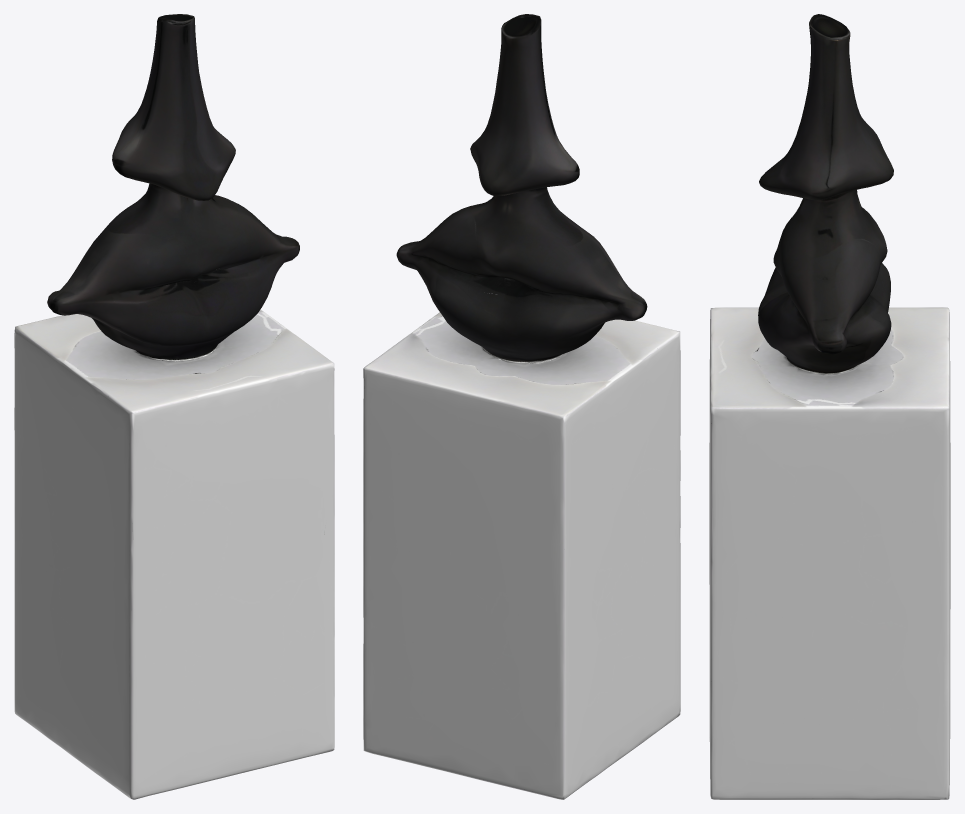
Rendered from Black_Elegance_0507153728_texture.glb.
The picture shows the model from 3 angles, left to right: view 1: azimuth 30°, elevation 25°; view 2: azimuth 150°, elevation 25°; view 3: azimuth 270°, elevation 25°; orthographic projection. The views are drawn at different scales.
Bounding box in the file's own units: 0.716 × 1.99 × 0.5962.
Materials: 1 (1 with a texture image).
